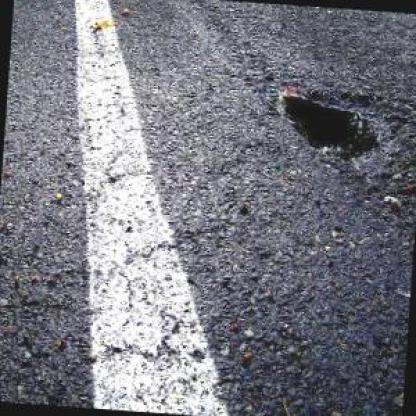pothole: (269, 79, 402, 187)
